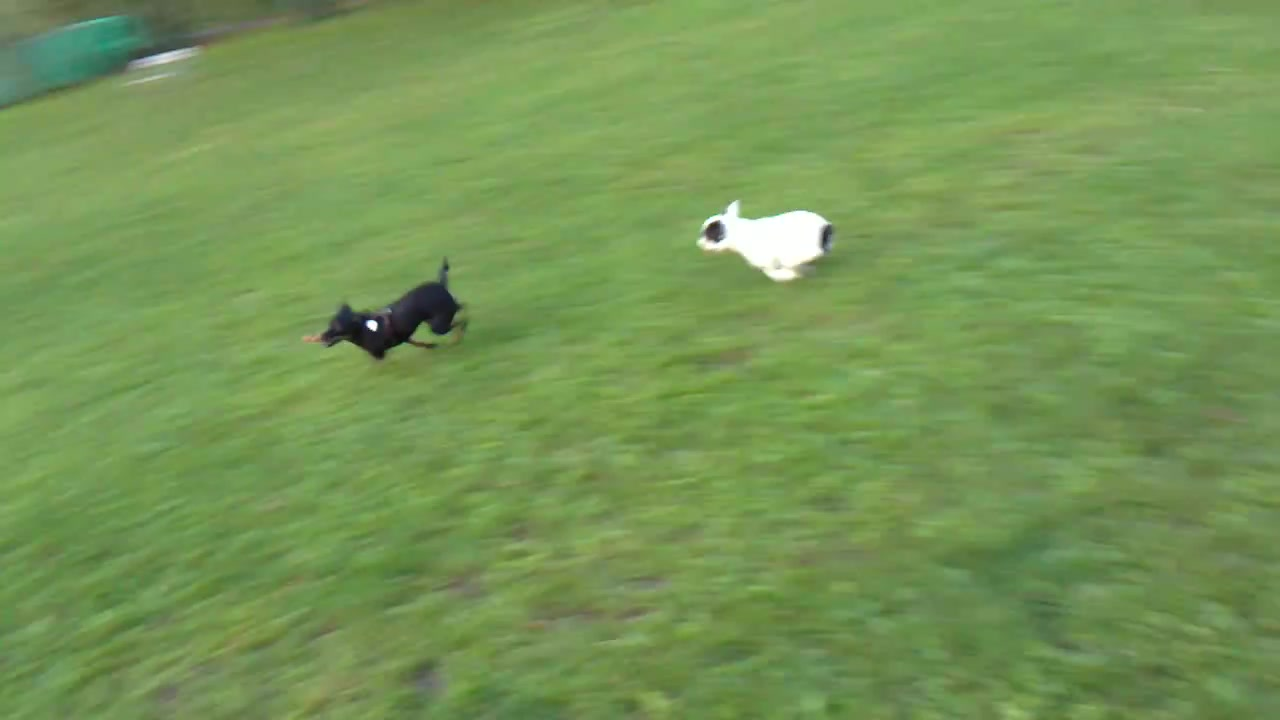dog: (303, 256, 477, 362), (694, 202, 835, 285)
